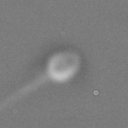normal: (1, 71, 48, 114)
